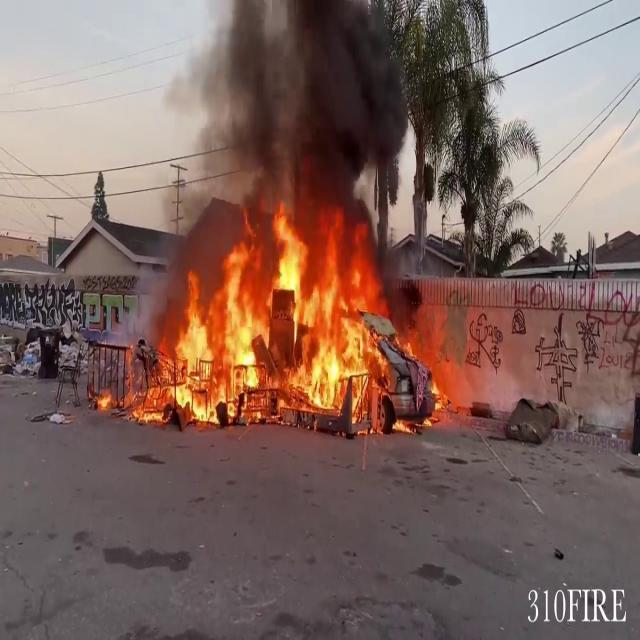Fire: (106, 209, 462, 431)
Smoke: (179, 0, 411, 219)
